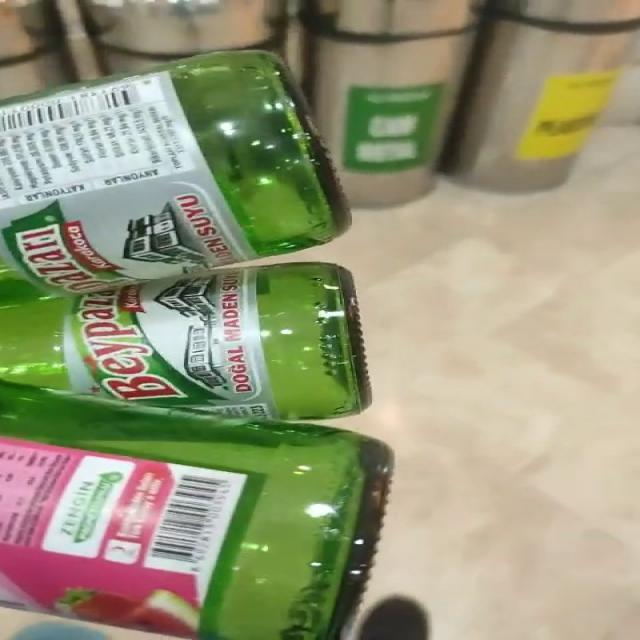Glass: (1, 51, 392, 640)
